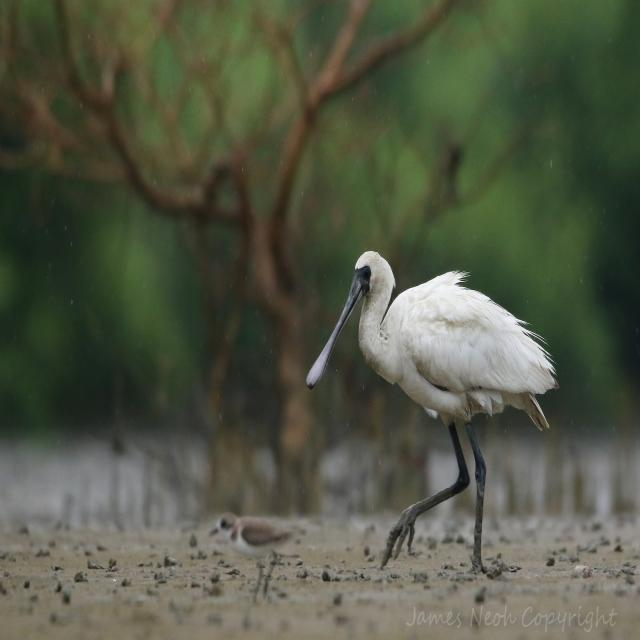Black-faced spoonbill: (307, 252, 557, 572), (210, 513, 293, 595)
